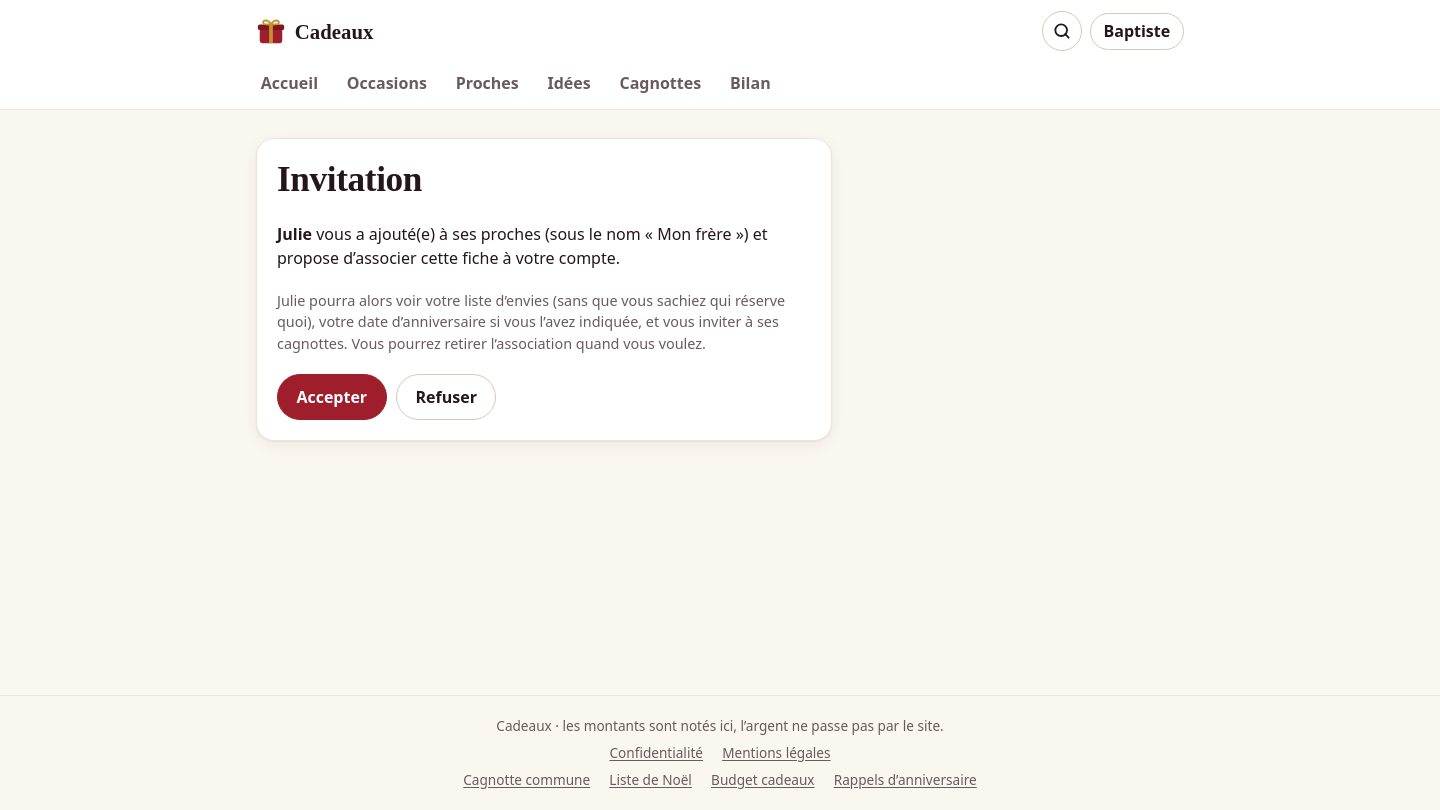
Test: association de comptes › accepter une invitation
The image size is (1440, 810).
Expected: the text "vous a ajouté(e) à ses proches (sous le nom « Mon frère »)" is shown, left=277, top=222, right=811, bottom=270
Click the button "Accepter" at (332, 397), box left=277, top=374, right=386, bottom=420
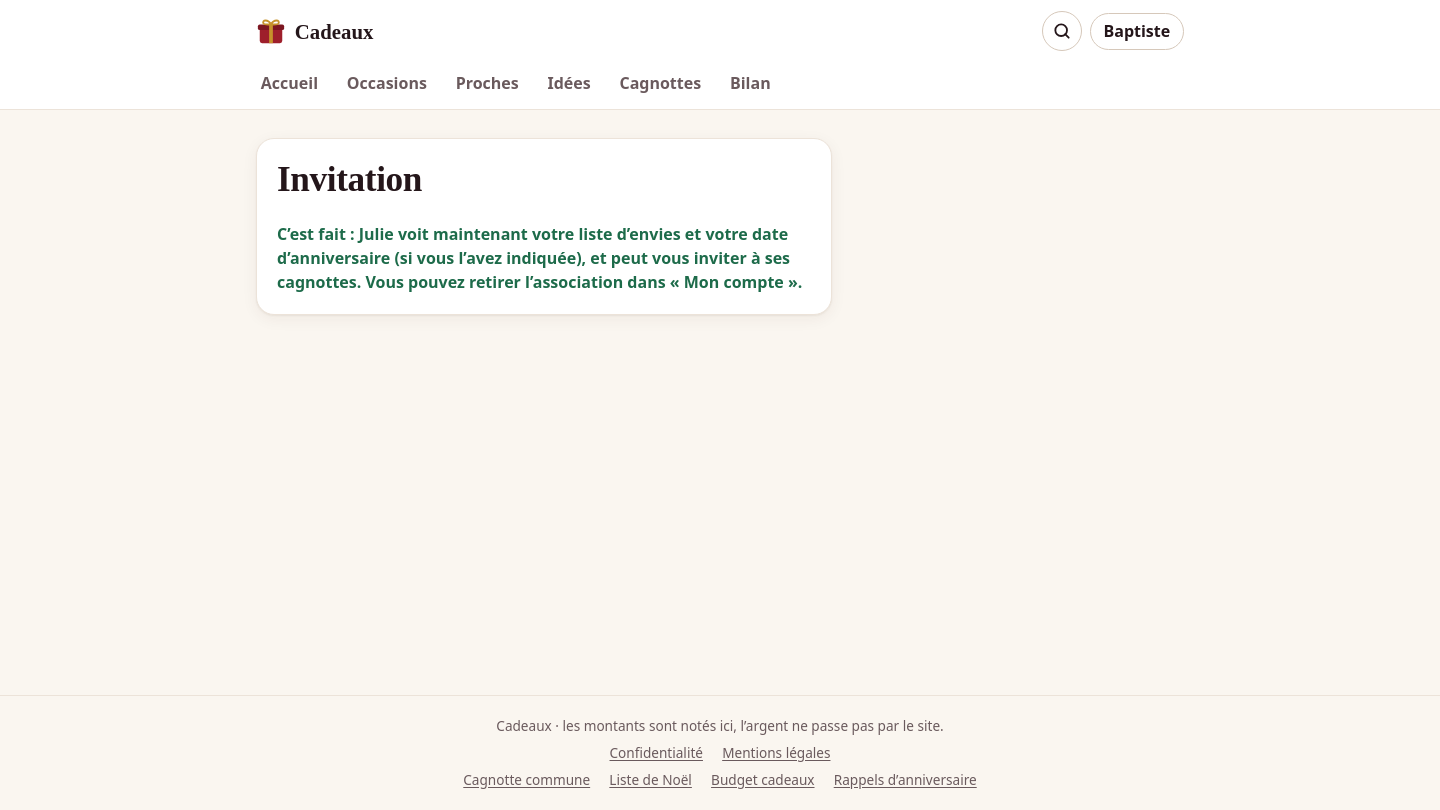
Expected: the text "C’est fait : Julie voit maintenant votre liste d’envies" is shown, left=277, top=223, right=802, bottom=293
